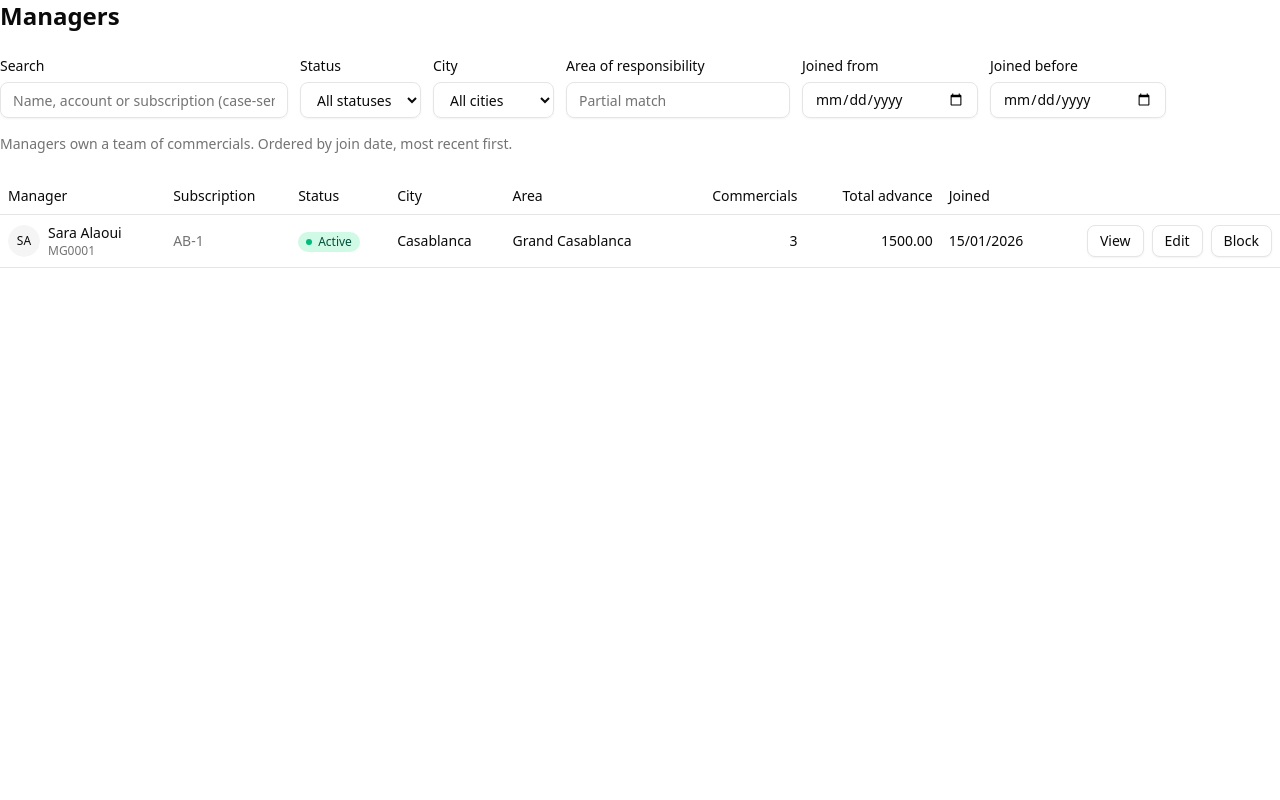
Test: edit › seeds the drawer from the row
What coordinates should you click on to do the following:
click the button with aria-label "edit sara alaoui"
I would click on:
 (1177, 241)
Its box is [1152,225,1203,257].
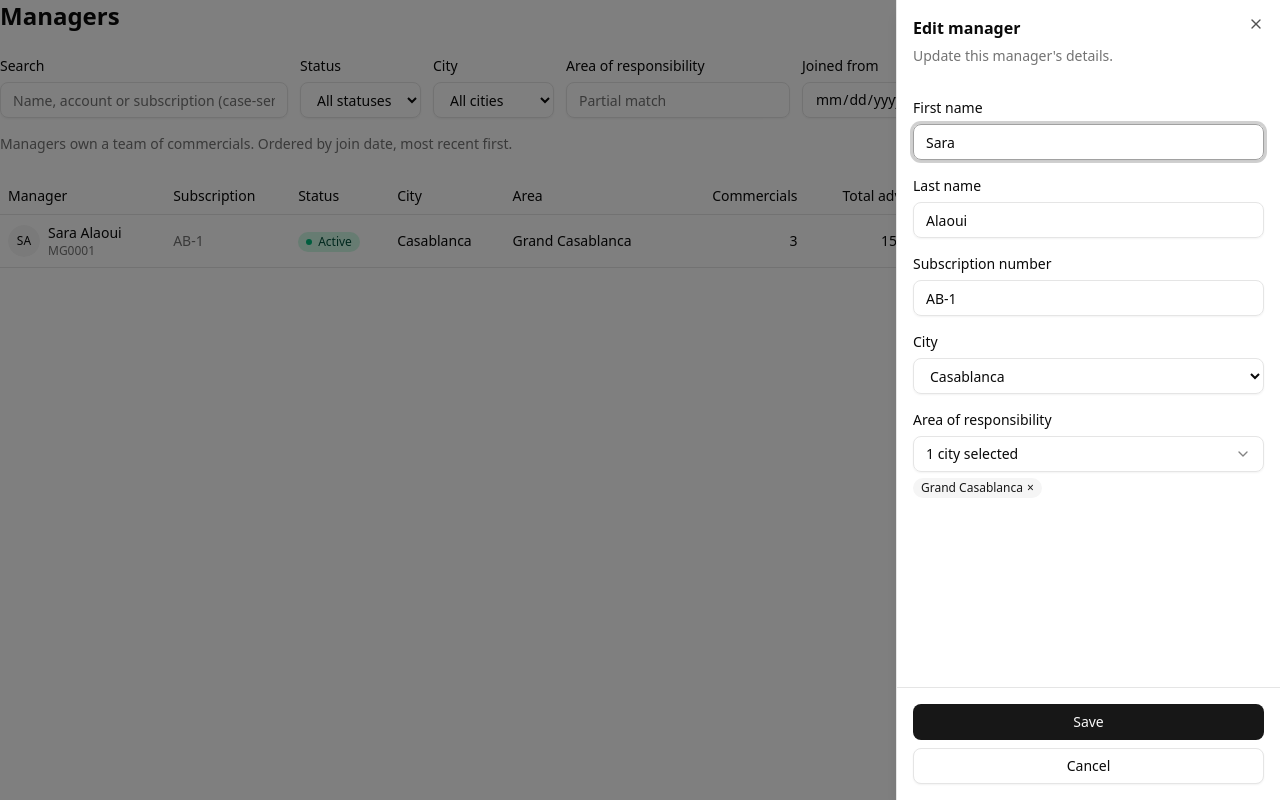
Expected: the field labelled "First name" holds "Sara", [913,124,1264,160]
Expected: the field labelled "Last name" holds "Alaoui", [913,202,1264,238]
Expected: the dropdown labelled "City" shows "Casablanca", [913,358,1264,394]
